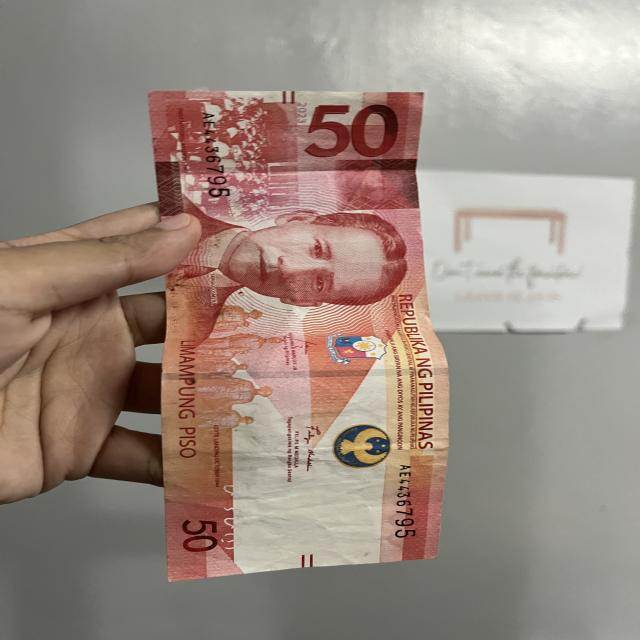concealed_value: (336, 156, 422, 214)
see_through_mark: (214, 478, 255, 558)
value: (294, 98, 399, 166)
